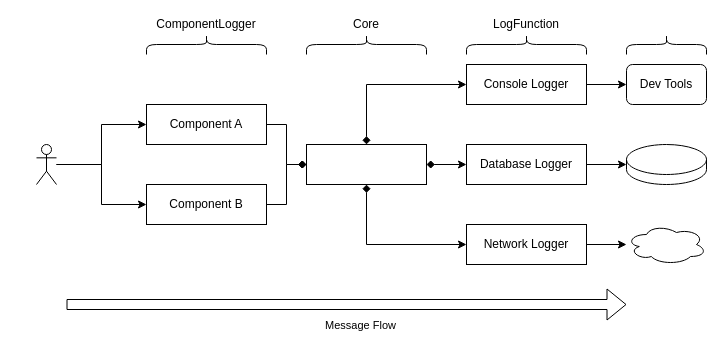
The diagram is 724 pixels wide and 348 high, and some of its shapes have lost their labels. Each missing label, with the centre of its shape:
API: the point at 666,244
Application: the point at 46,164
DB: the point at 666,164
Logger: the point at 366,164
Target: the point at 666,44
